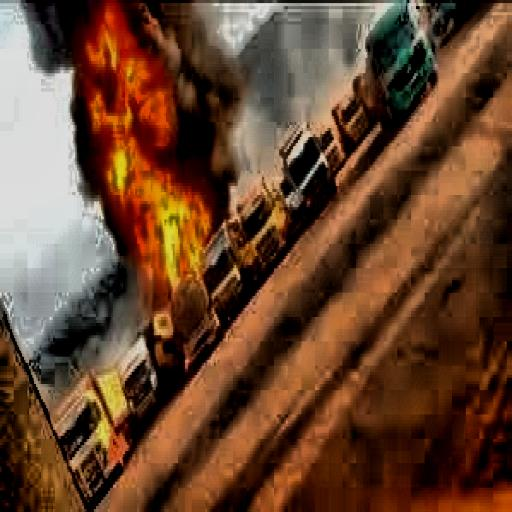fire: (54, 30, 234, 290)
